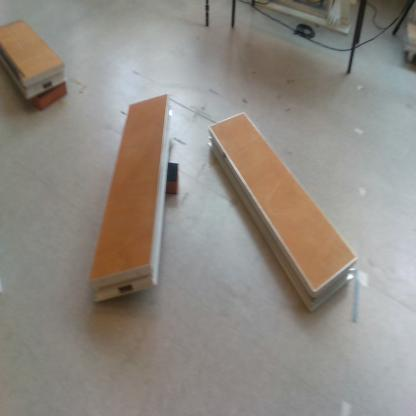Stairs: (209, 114, 359, 314), (90, 97, 173, 304), (1, 19, 67, 100)
